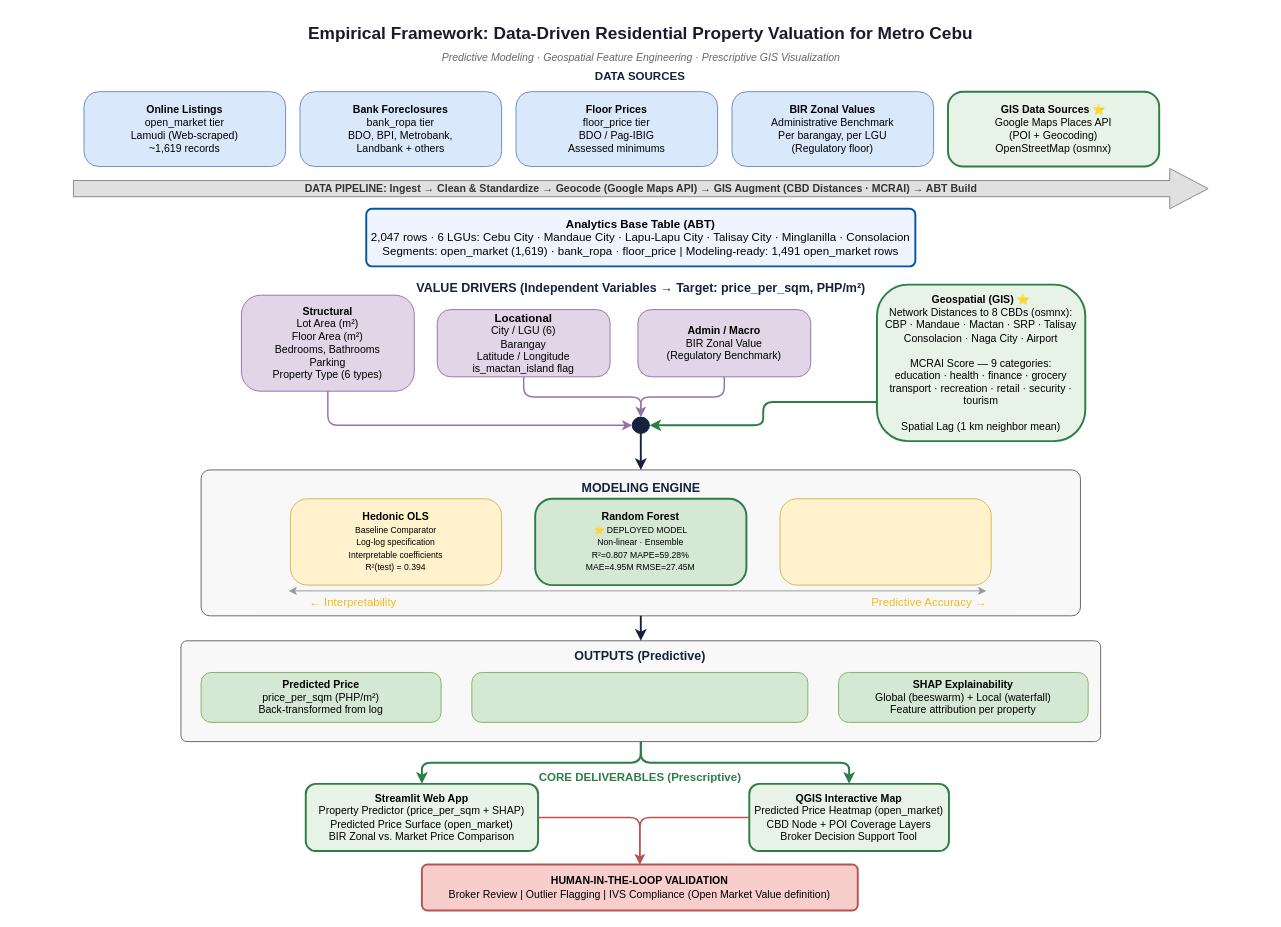
Some shapes in this 1281 by 927 pixel diagram are drawn without their labels. Here are the shapes that lost their labels. From the top down, the centre of each, then its label:
At [885,541]: "XGBoost Comparator Gradient Boosting R²=0.492 (post-taxonomy cleanup)".
At [639,697]: "Valuation Gap price_per_sqm − BIR zonal value Diagnostic: market vs. regulatory".
